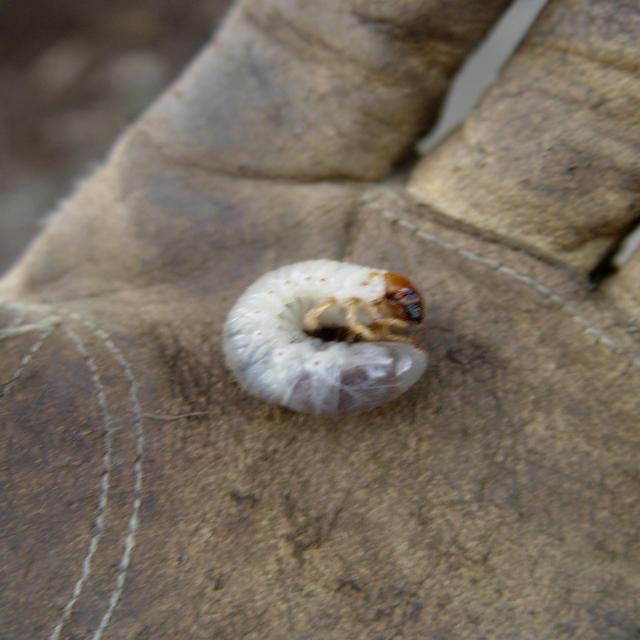Grub-Adult-: (200, 248, 460, 433)
